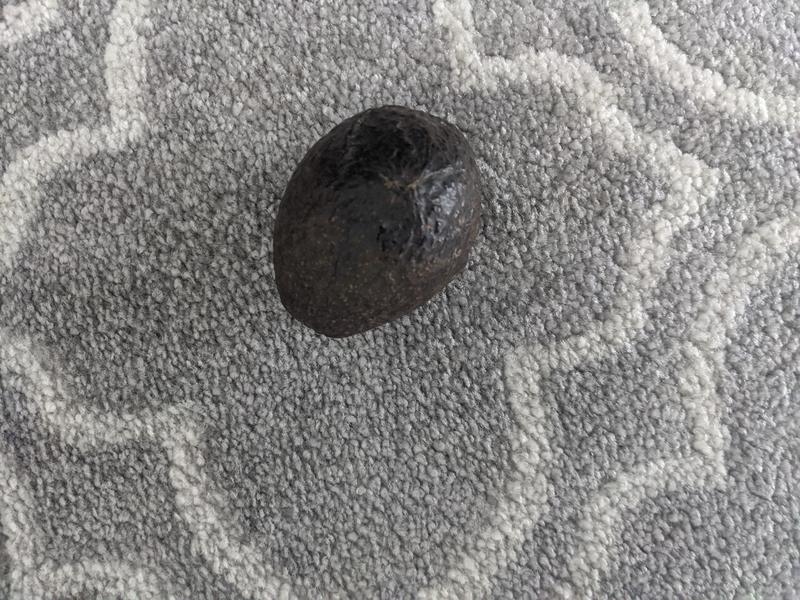avocado: (271, 104, 484, 338)
